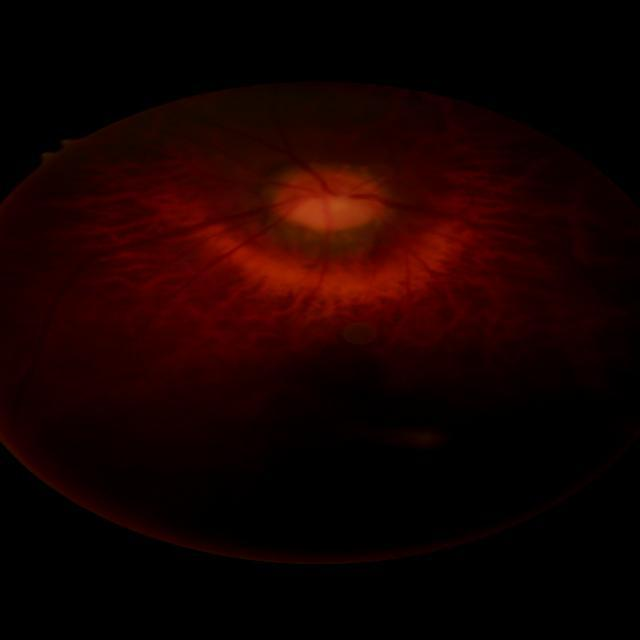cup: (288, 190, 372, 220)
disk: (274, 170, 386, 230)
